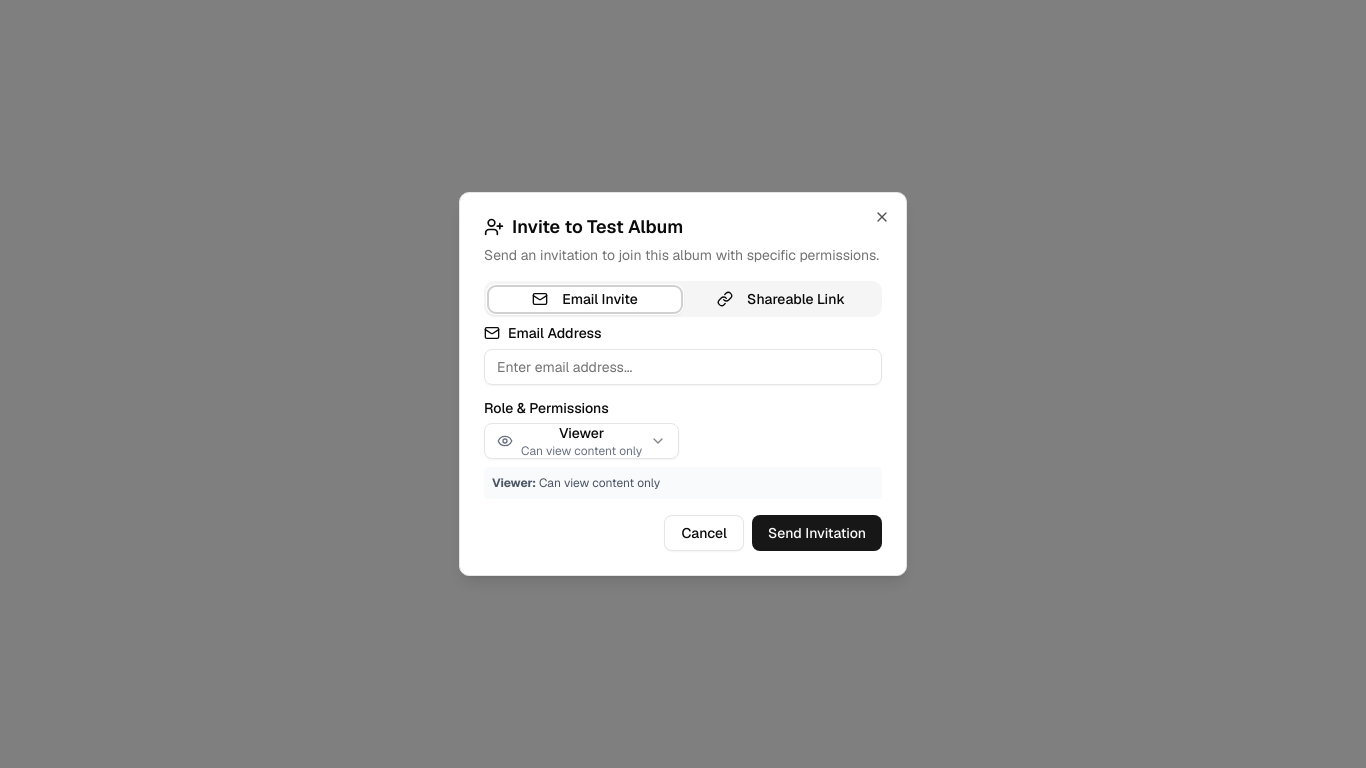
Test case: InviteModal › Tab Navigation › switches to shareable link tab when clicked
Click the tab "Shareable Link". click: (781,299)
box: [683, 284, 879, 314]
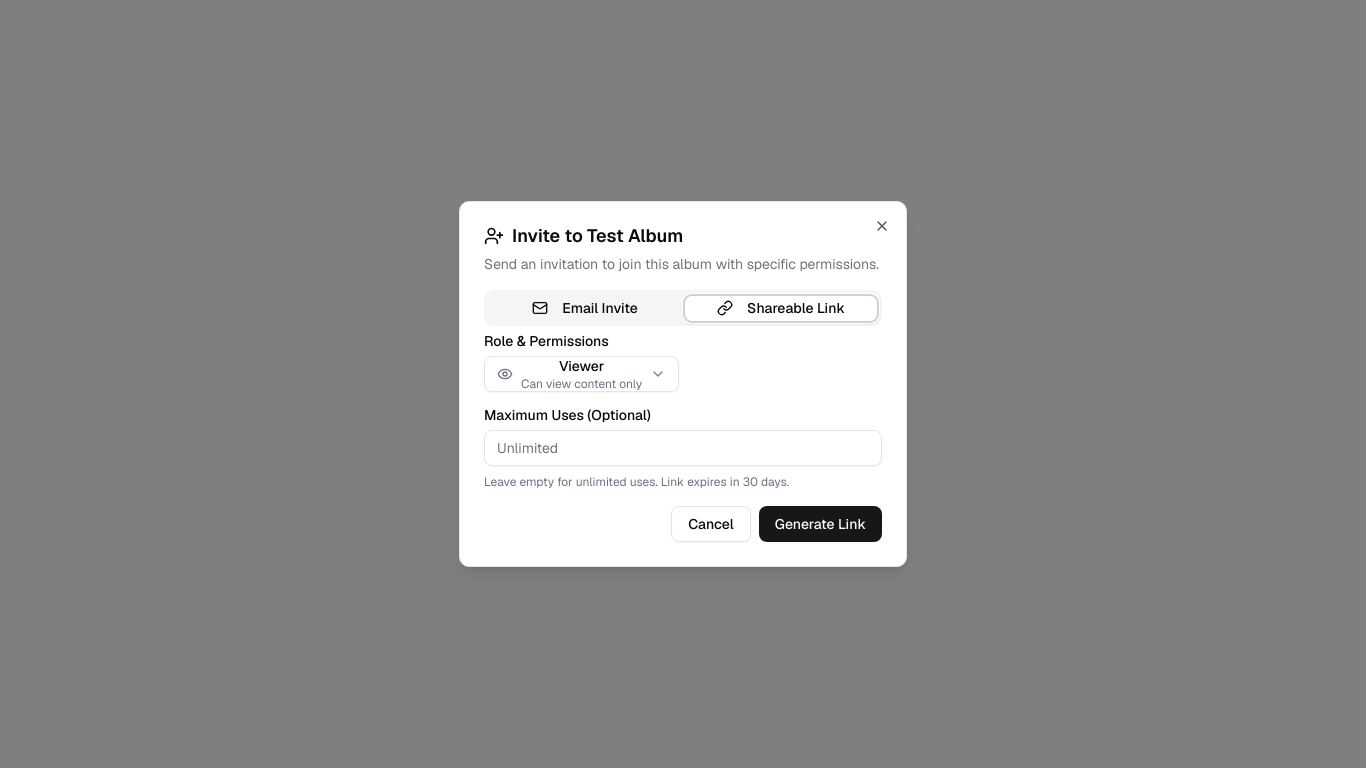
Check: the number field labelled "Maximum Uses (Optional)" is shown, box [484, 430, 882, 466]
Check: the button "Generate Link" is shown, box [759, 506, 882, 542]
